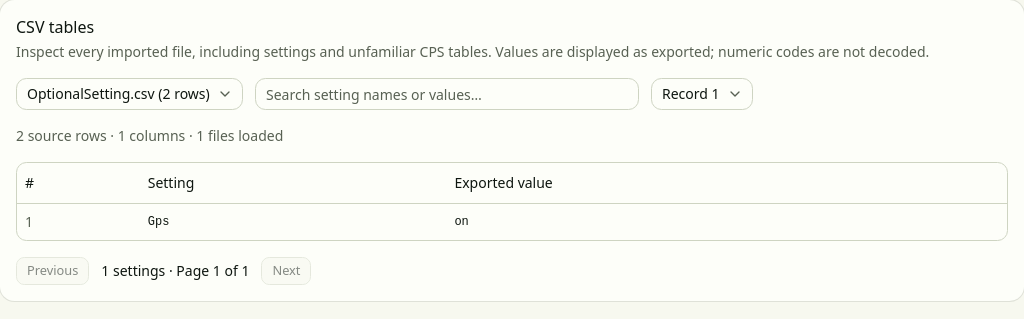
Test: a settings file with several records can switch between them
Expected: the text "on" is shown, top-left (446, 203), bottom-right (1007, 240)
Select "Record 2" in the dropdown named "Settings record" at [702, 94], box top-left (651, 78), bottom-right (753, 110)
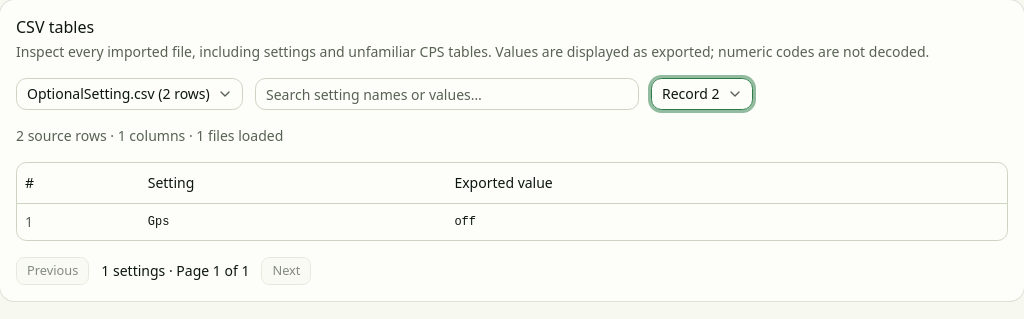
Expected: the text "off" is shown, top-left (446, 203), bottom-right (1007, 240)
